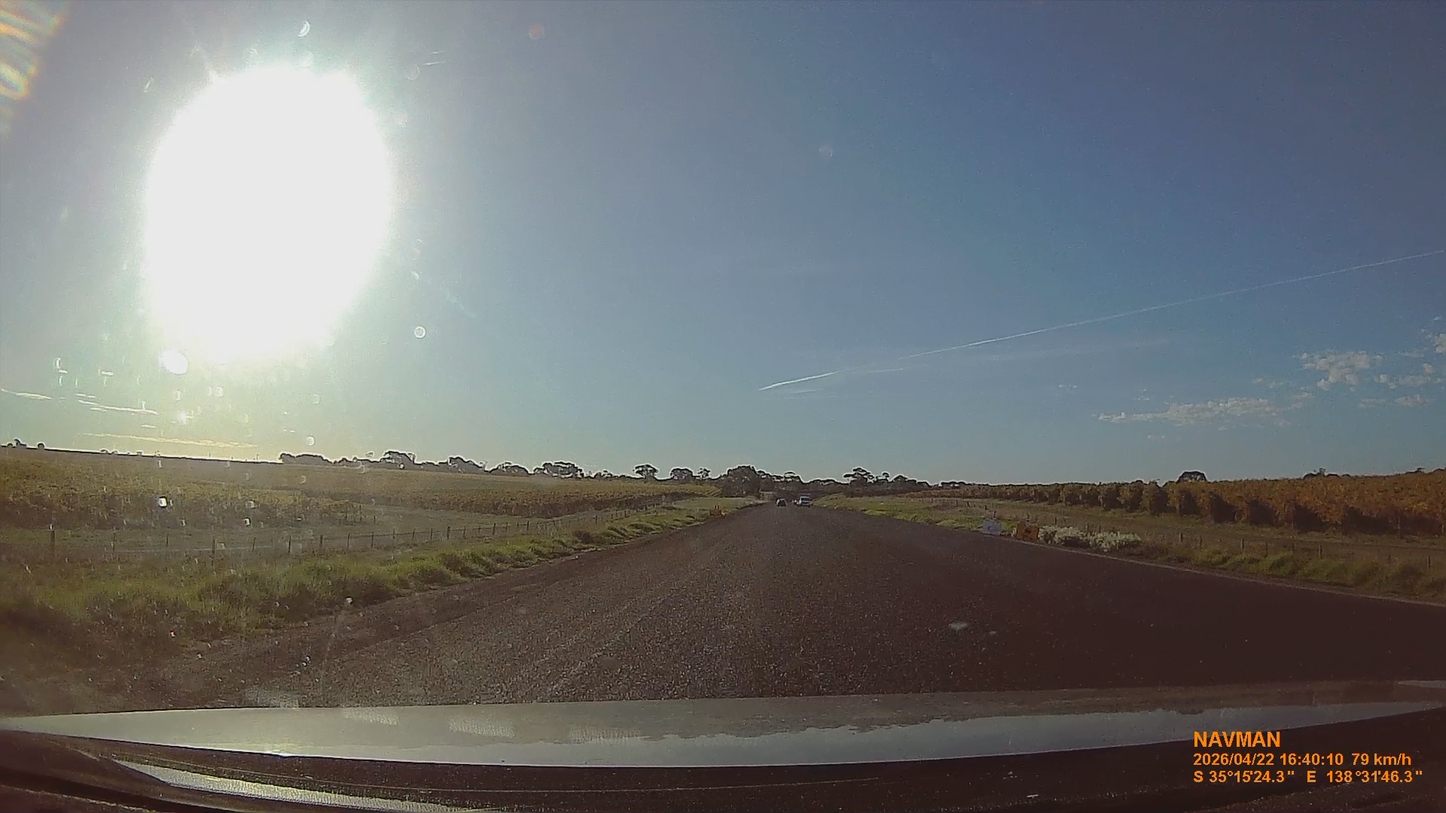fences: (0, 519, 562, 562)
